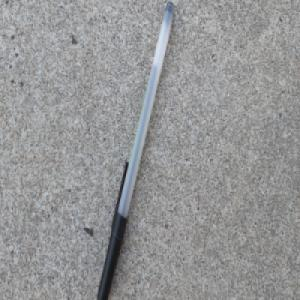Pen: (96, 1, 176, 300)
